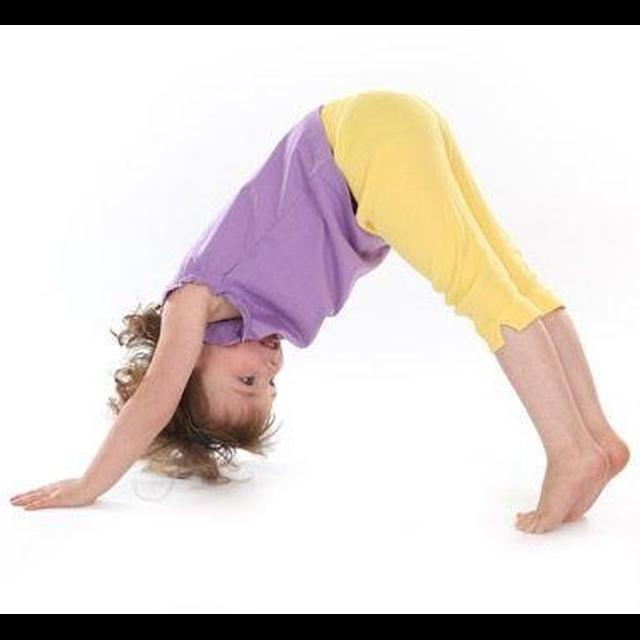Downward-Facing_Dog: (1, 85, 637, 544)
